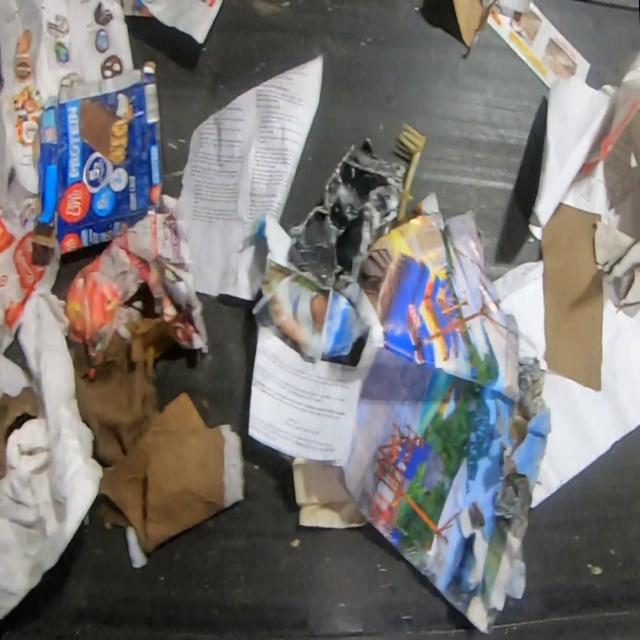cardboard: (65, 315, 244, 554), (31, 58, 163, 257), (591, 220, 640, 308), (0, 385, 45, 479), (450, 0, 497, 49)
